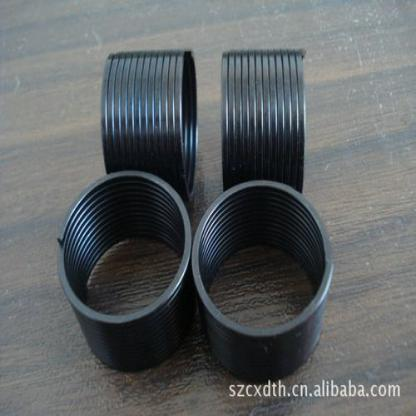FOD: (51, 167, 193, 375), (191, 178, 334, 382), (98, 47, 200, 195), (217, 46, 310, 201)
